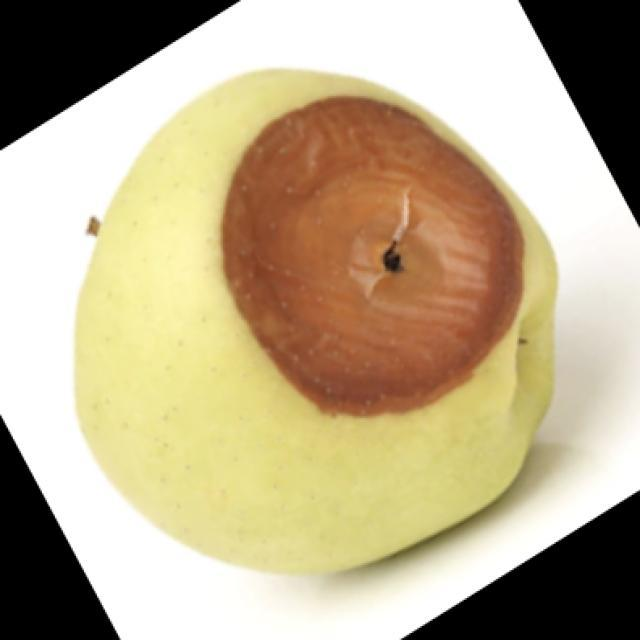Rotten: (108, 80, 557, 578)
